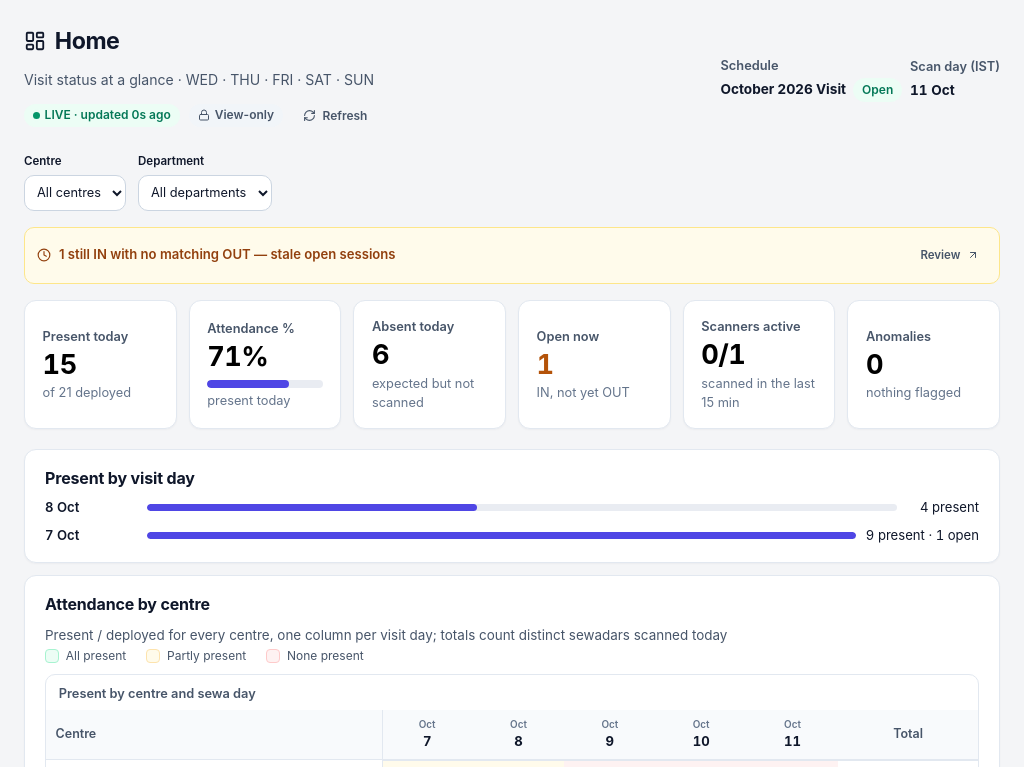
DashboardPage — centre + department filters › filters KPI tiles by department
This screenshot has width=1024, height=767.
Select "MEDICAL" in the dropdown labelled "Department" at x=205, y=193, box [138, 175, 272, 211]
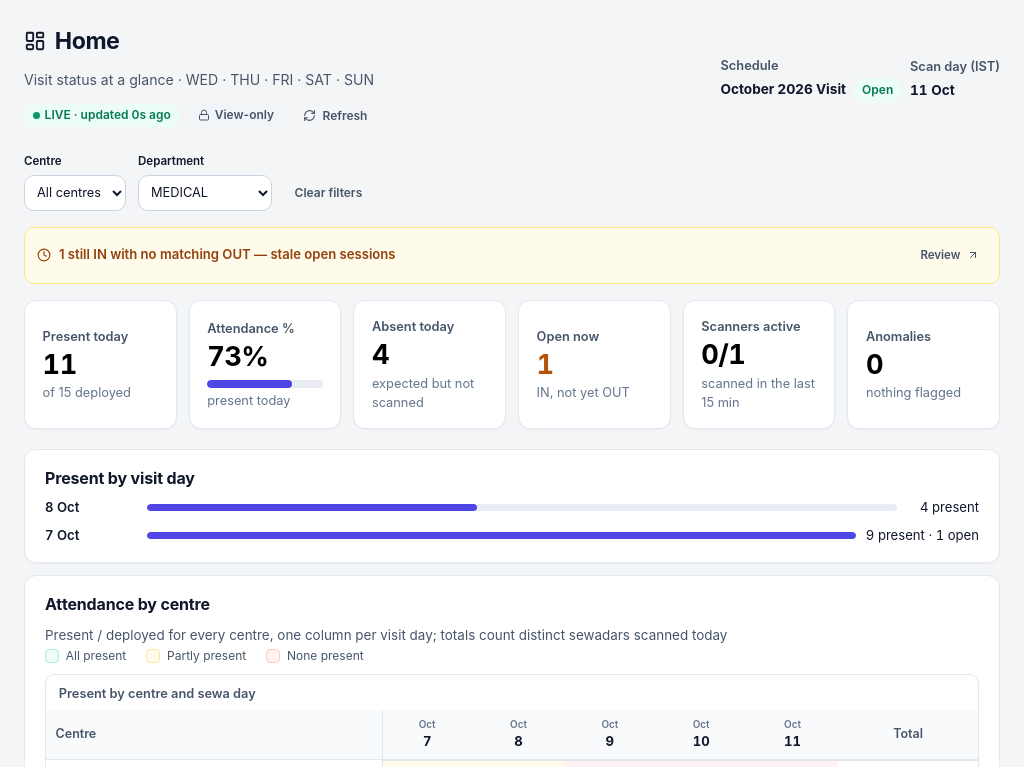
Expected: the button "Present today 11 of 15 deployed" is shown, [24, 300, 177, 429]
